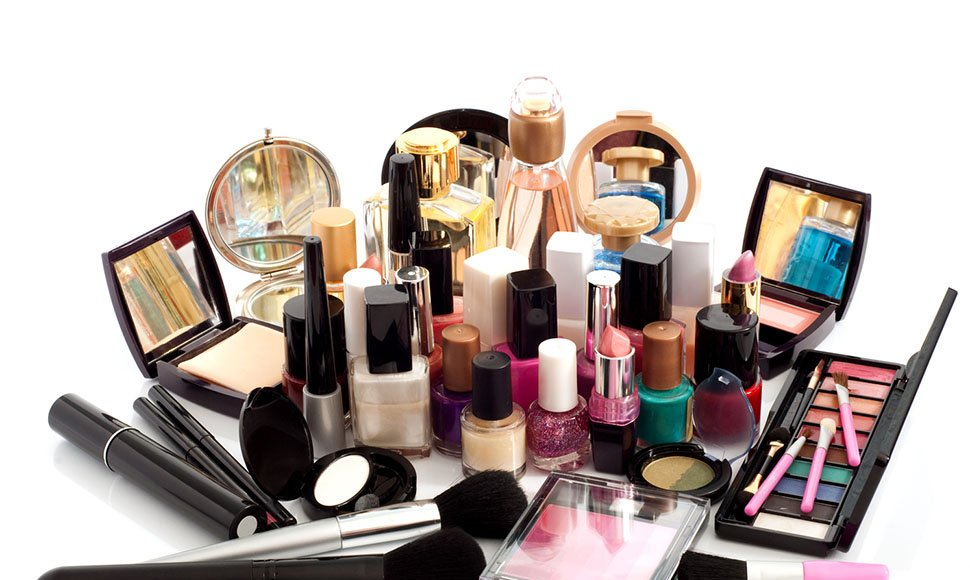Nonrec_Other: (7, 60, 960, 559)
